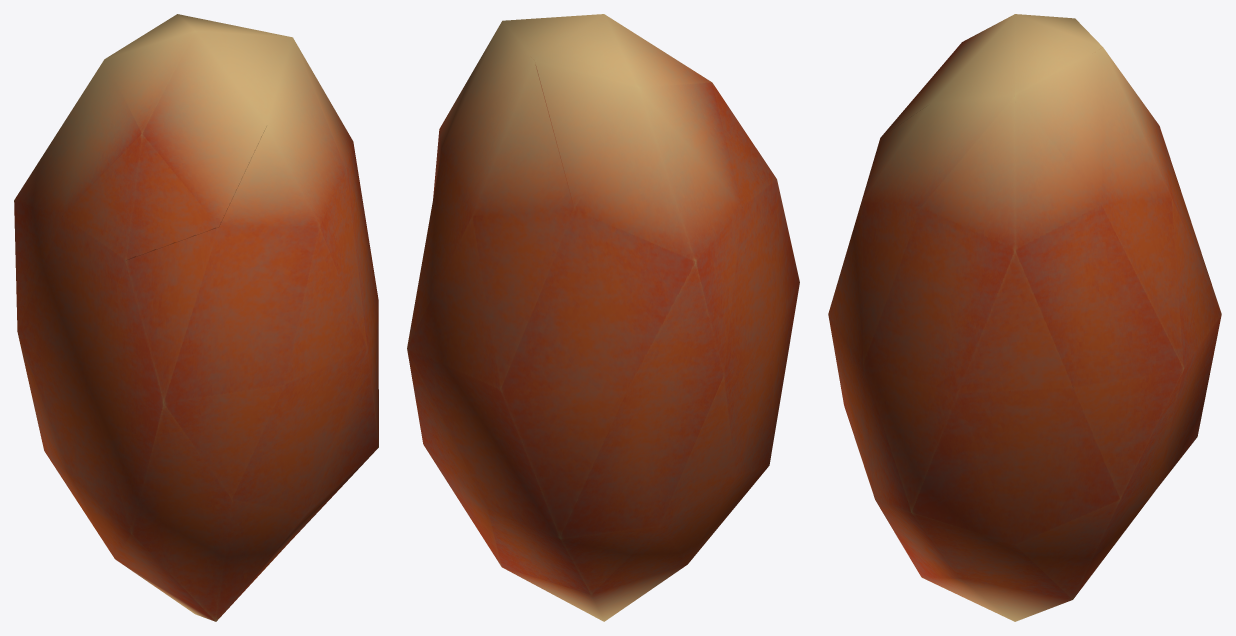
The model's file is w_rock3.fbx.
3 views of the same model, side by side, from view 1: azimuth 30°, elevation 25°; view 2: azimuth 150°, elevation 25°; view 3: azimuth 270°, elevation 25° (orthographic). The views are drawn at different scales.
Visible parts, largest first — view 1: Icosphere.001; view 2: Icosphere.001; view 3: Icosphere.001.
Part boxes in pixels (x1,y1,x2,y2): Icosphere.001: (14, 14, 378, 621); Icosphere.001: (407, 14, 799, 621); Icosphere.001: (828, 14, 1221, 621).
Size of the model in its own units: 220 by 404 by 237.
Materials: 1 (1 with a texture image).
